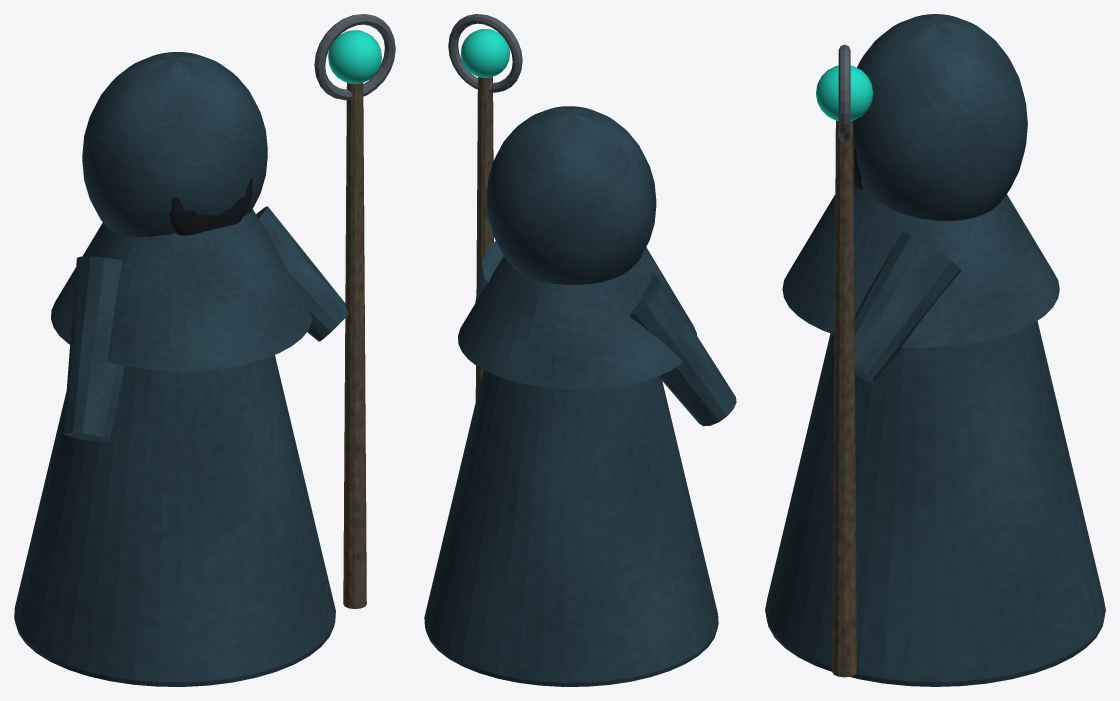
Rendered from detail_wayfinder.glb.
3 renders of one model, left to right at view 1: azimuth 30°, elevation 25°; view 2: azimuth 150°, elevation 25°; view 3: azimuth 270°, elevation 25°, orthographic. The views are drawn at different scales.
Parts seen in each view (by area): view 1: WayfinderRobe, WayfinderHood, WayfinderMantle, Cone.002, Cone, Cone.001, Torus, Icosphere, HoodShadow; view 2: WayfinderRobe, WayfinderHood, WayfinderMantle, Cone, Cone.002, Torus, Icosphere, Cone.001; view 3: WayfinderRobe, WayfinderHood, WayfinderMantle, Cone.002, Cone.001, Icosphere, Torus.
Boxes of the visible parts, x1,y1,x2,y2 form: WayfinderRobe: (14, 355, 335, 686); WayfinderHood: (82, 52, 267, 237); WayfinderMantle: (51, 209, 312, 371); Cone.002: (343, 82, 366, 608); Cone: (63, 256, 127, 441); Cone.001: (256, 206, 348, 341); Torus: (314, 14, 395, 100); Icosphere: (328, 30, 381, 83); HoodShadow: (169, 178, 253, 235); WayfinderRobe: (424, 370, 718, 686); WayfinderHood: (486, 106, 656, 285); WayfinderMantle: (458, 247, 696, 389); Cone: (629, 273, 736, 426); Cone.002: (475, 77, 493, 401); Torus: (448, 14, 522, 92); Icosphere: (460, 29, 509, 77); Cone.001: (475, 241, 503, 302); WayfinderRobe: (765, 321, 1105, 686); WayfinderHood: (853, 14, 1027, 221); WayfinderMantle: (782, 183, 1059, 347); Cone.002: (832, 120, 856, 677); Cone.001: (854, 232, 961, 382); Icosphere: (816, 65, 873, 120); Torus: (838, 44, 850, 141).
Size of the model in its own units: 1.64 by 2.95 by 1.43.
Materials: 5 (2 with a texture image).
